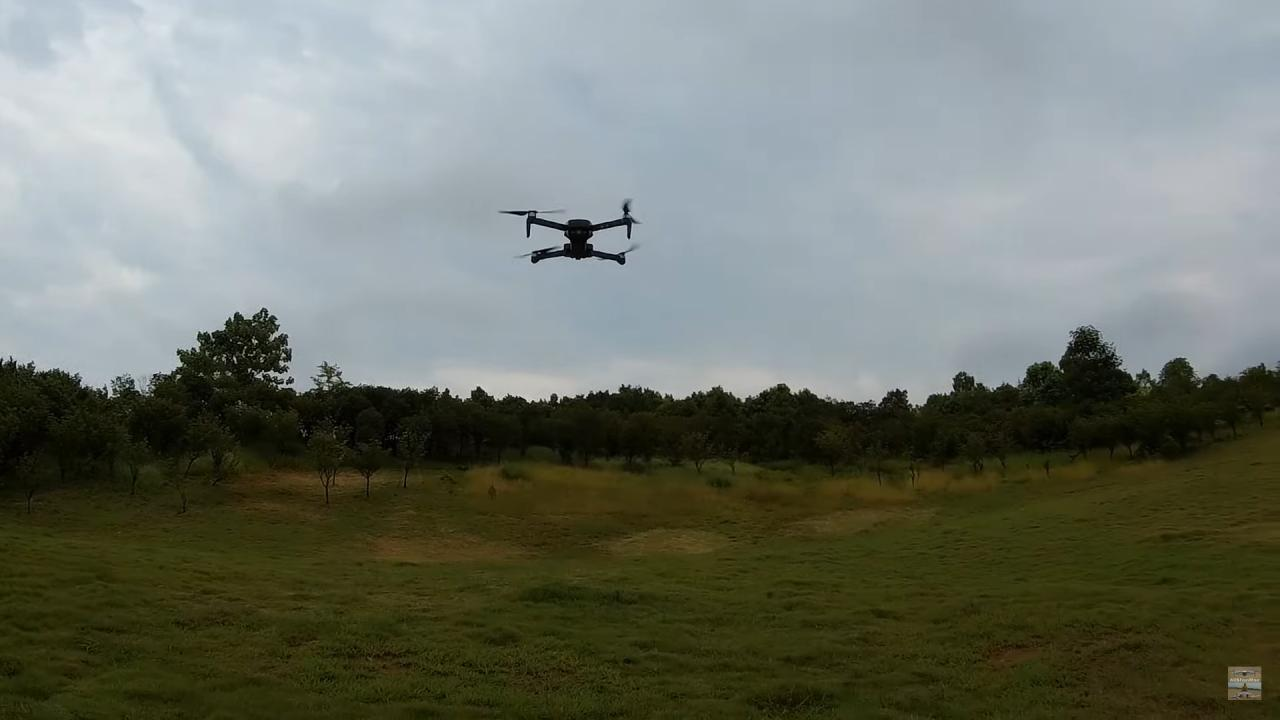Drone: (489, 183, 656, 280)
